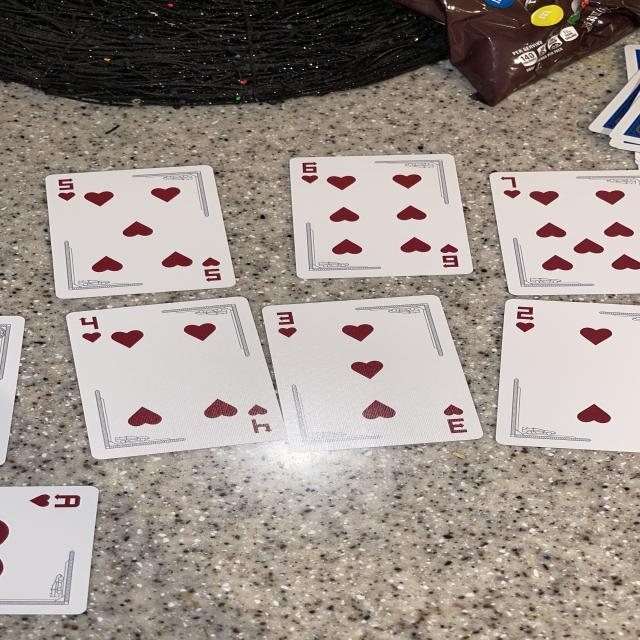2 of hearts: (499, 299, 640, 447)
3 of hearts: (263, 297, 481, 449)
4 of hearts: (66, 296, 282, 461)
5 of hearts: (47, 161, 233, 300)
6 of hearts: (290, 155, 473, 280)
7 of hearts: (490, 173, 640, 298)
